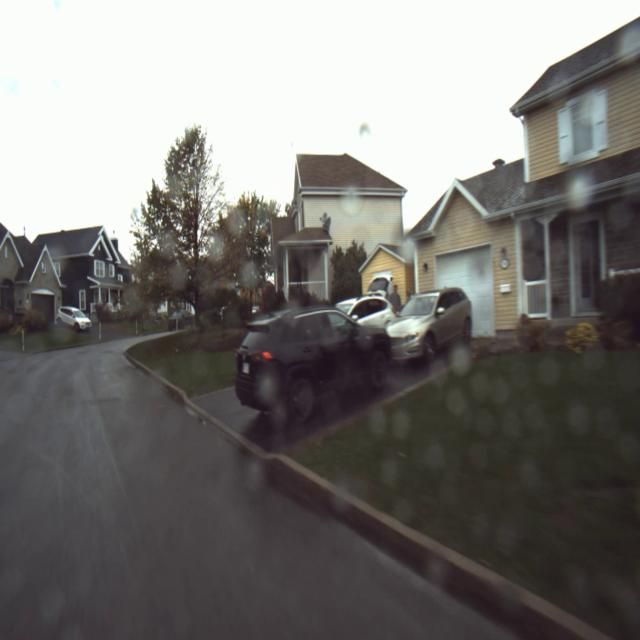car: (222, 294, 394, 434)
